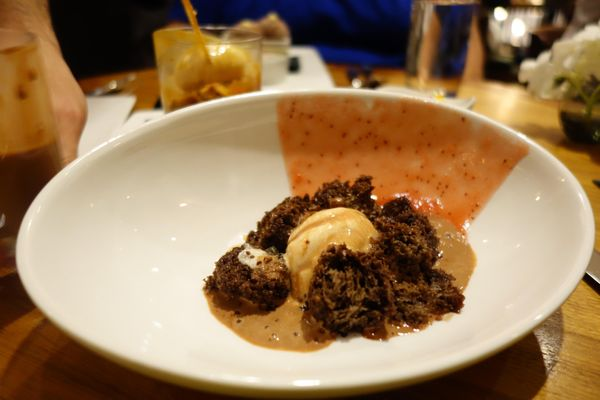pizza: (152, 21, 263, 112)
